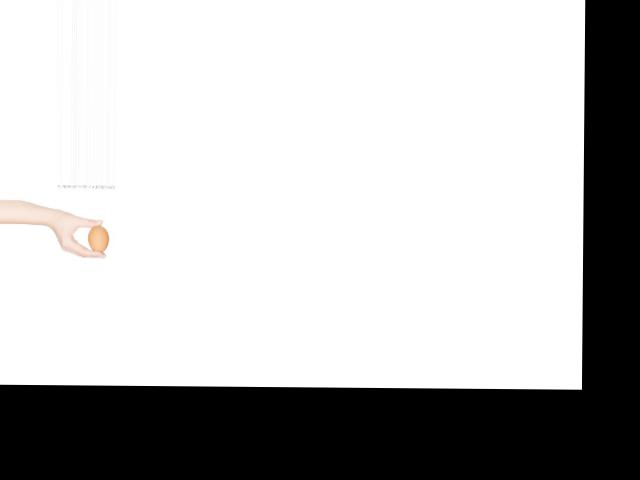egg: (88, 224, 109, 253)
